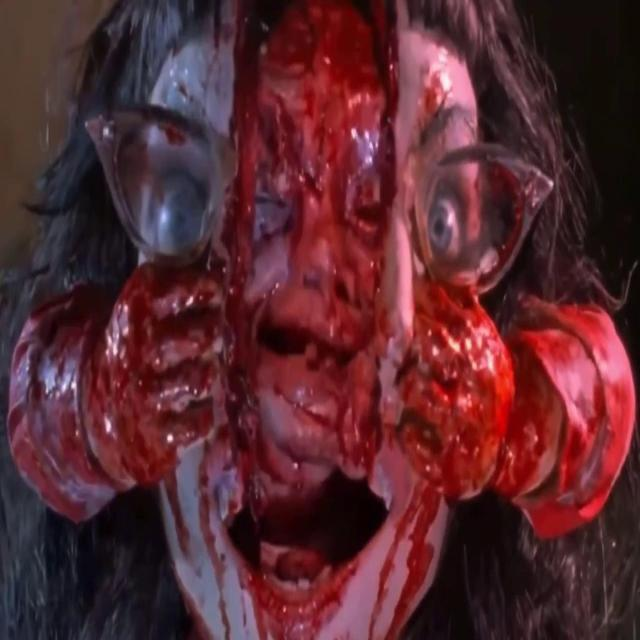flood: (223, 1, 401, 416)
